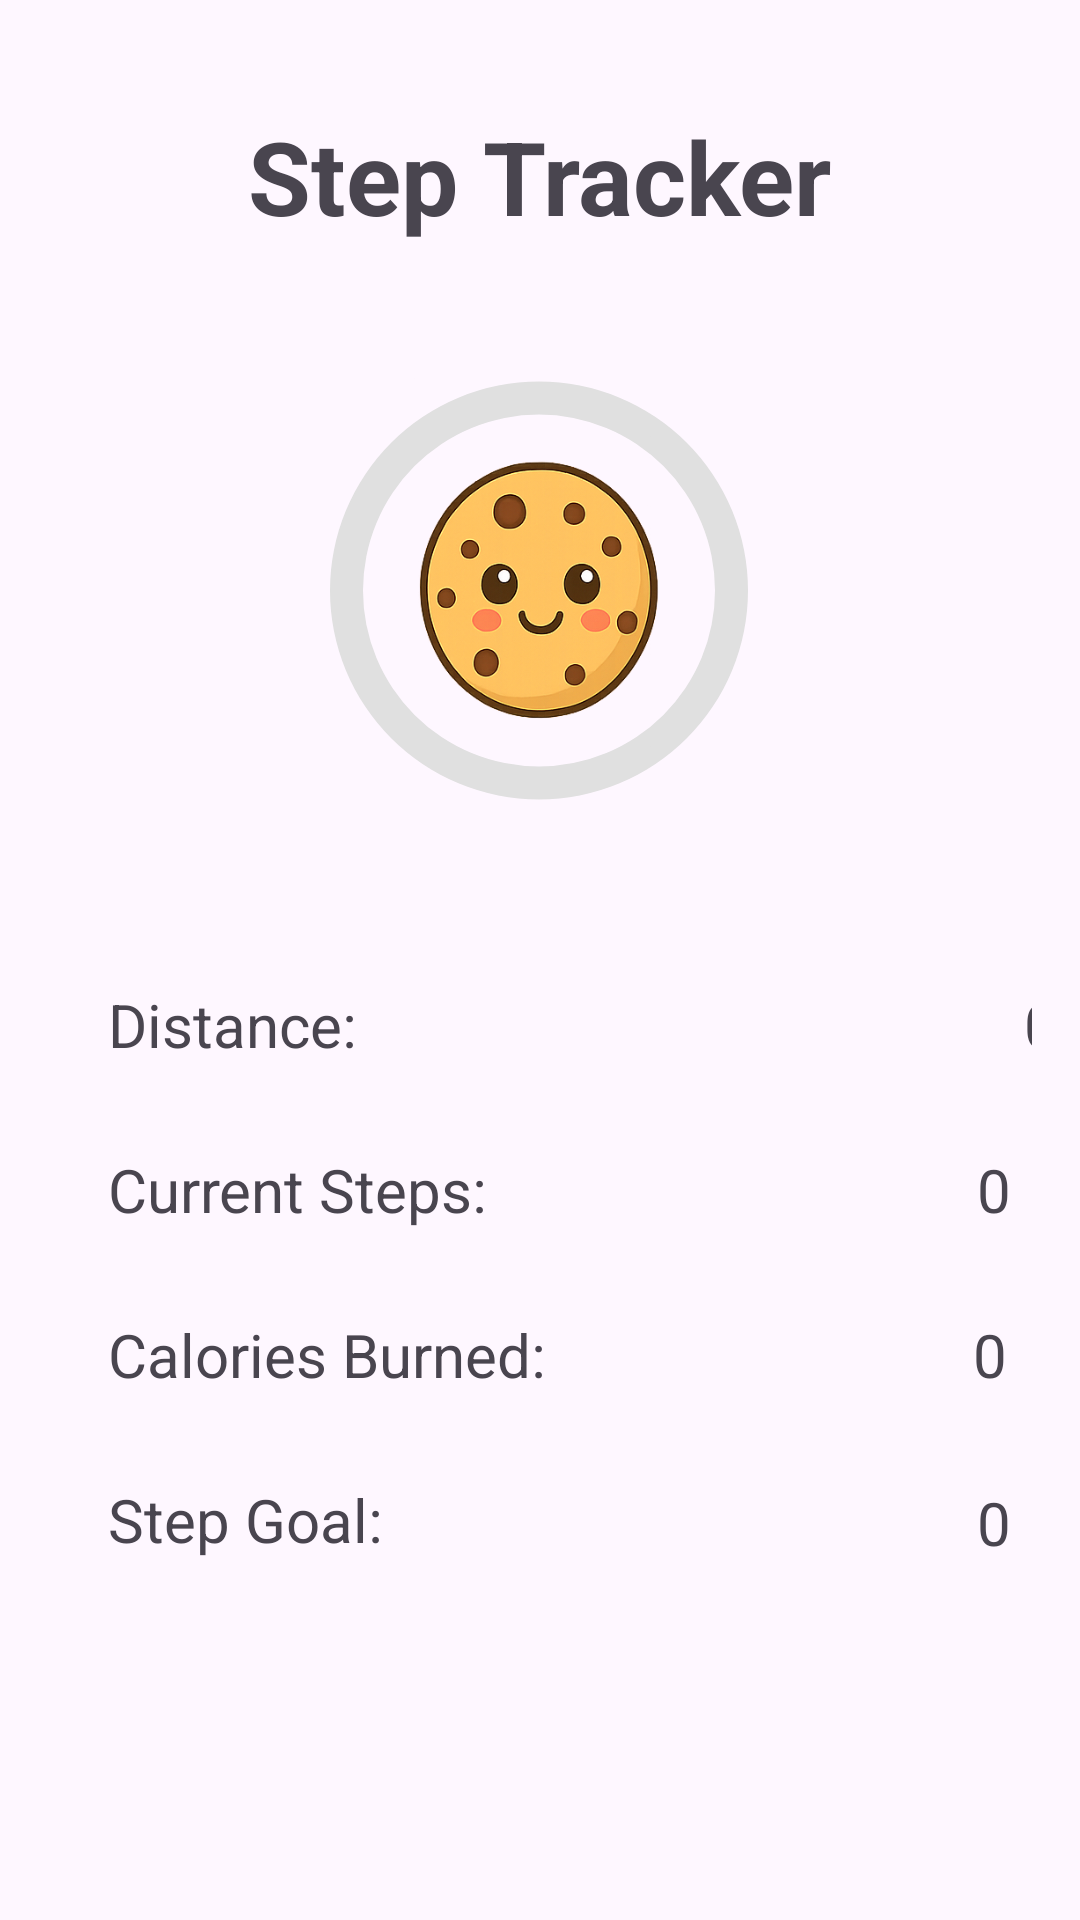

Named icons in this screenshot (1080w x 1920h) and their bounding boxes, (x1, y1, x2, y2):
basic cookie: (420, 462, 658, 718)
